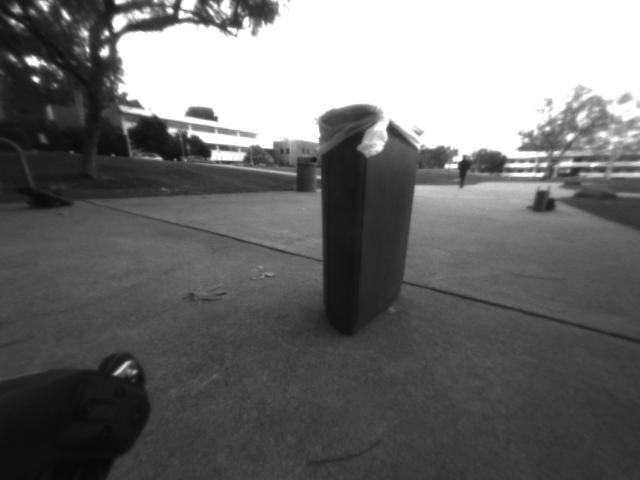trashcan_open: (302, 97, 440, 340)
